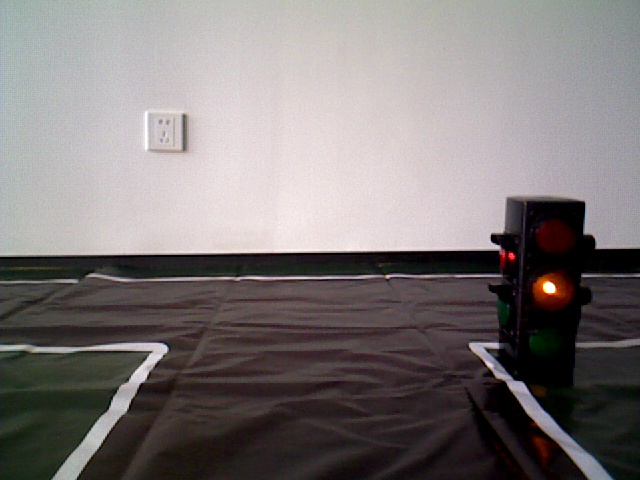yellow: (508, 201, 583, 373)
